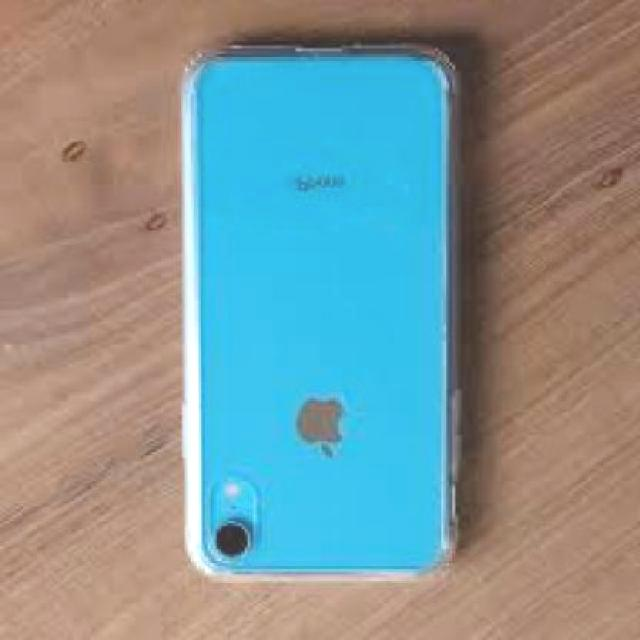phone: (184, 39, 462, 581)
